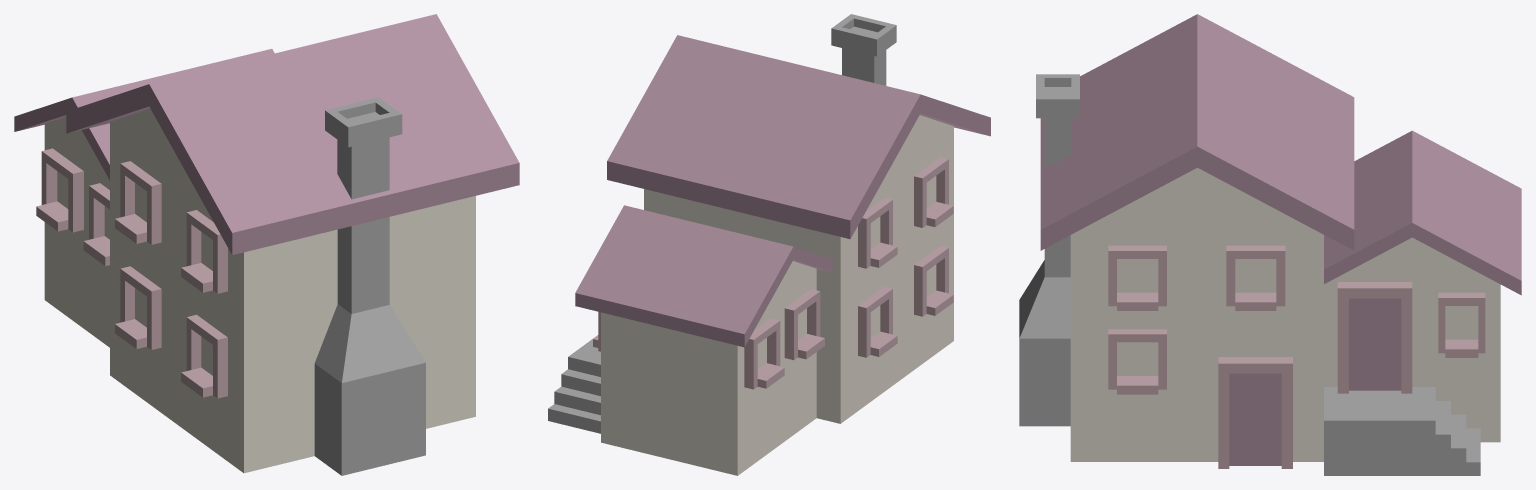
Rendered from SM_House_002.fbx.
3 views of the same model, side by side, from view 1: azimuth 30°, elevation 25°; view 2: azimuth 150°, elevation 25°; view 3: azimuth 270°, elevation 25° (orthographic). The views are drawn at different scales.
Visible parts, largest first — view 1: SM_House_002; view 2: SM_House_002; view 3: SM_House_002.
Part boxes in pixels (x1,y1,x2,y2): SM_House_002: [14, 14, 519, 475]; SM_House_002: [548, 14, 990, 475]; SM_House_002: [1019, 14, 1521, 475].
Bounding box in the file's own units: 591 × 676 × 936.
